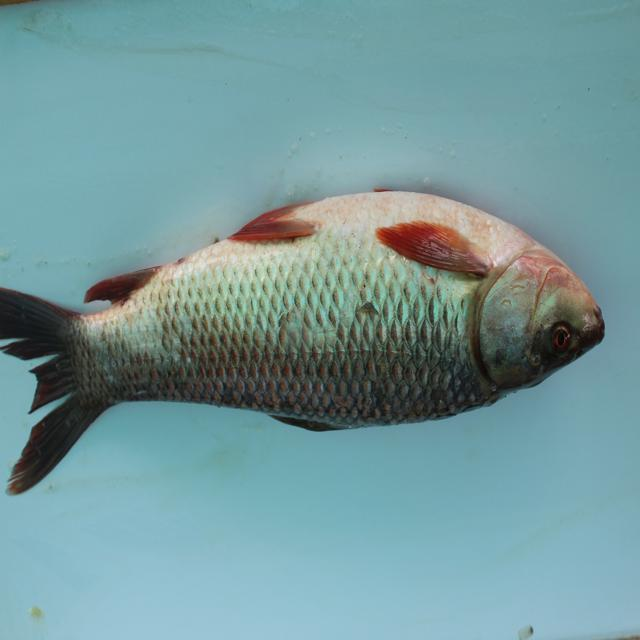Rohu: (2, 189, 598, 480)
